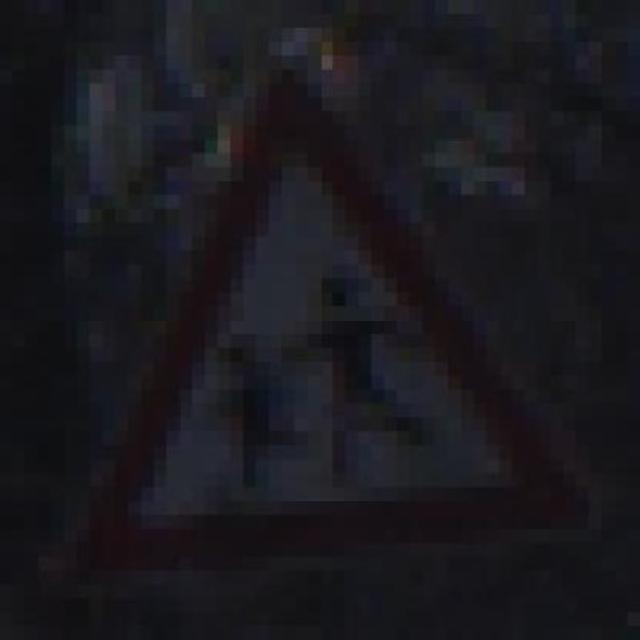Beware of children: (77, 56, 601, 598)
